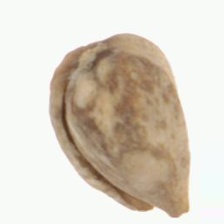L1: (119, 190, 191, 219), (72, 35, 111, 64)
L2: (48, 32, 191, 218)
